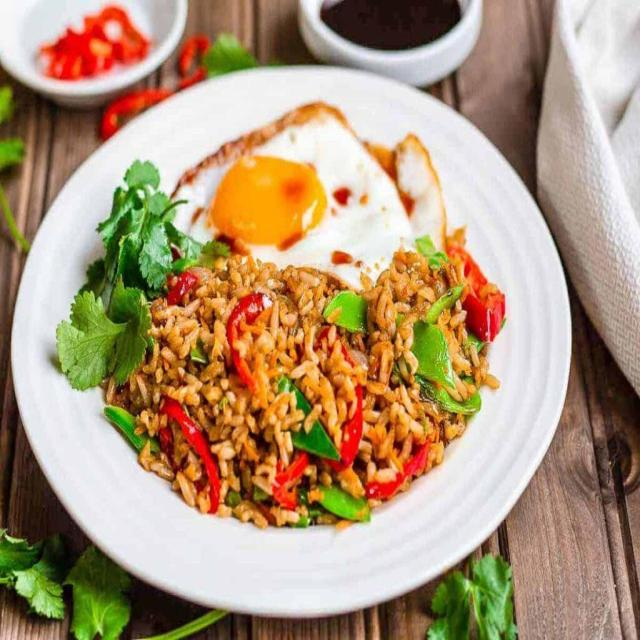Nasi Goreng: (124, 112, 478, 476)
